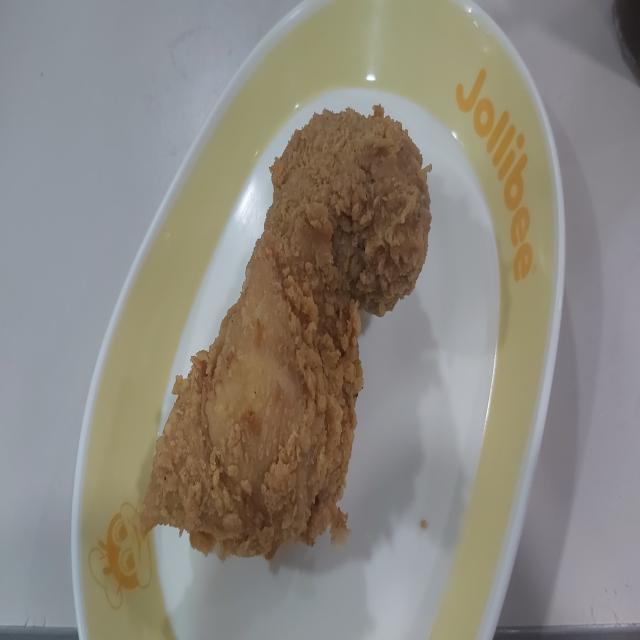Chicken -Fried Chicken-: (133, 94, 444, 560)
